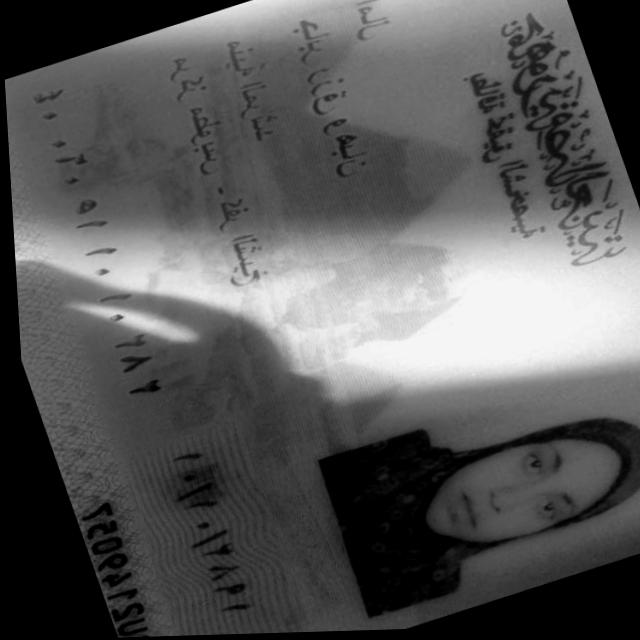front: (5, 0, 640, 638)
